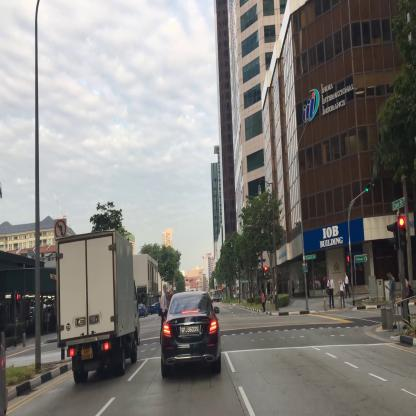red_traffic_light: (396, 216, 405, 245), (264, 264, 267, 277)
